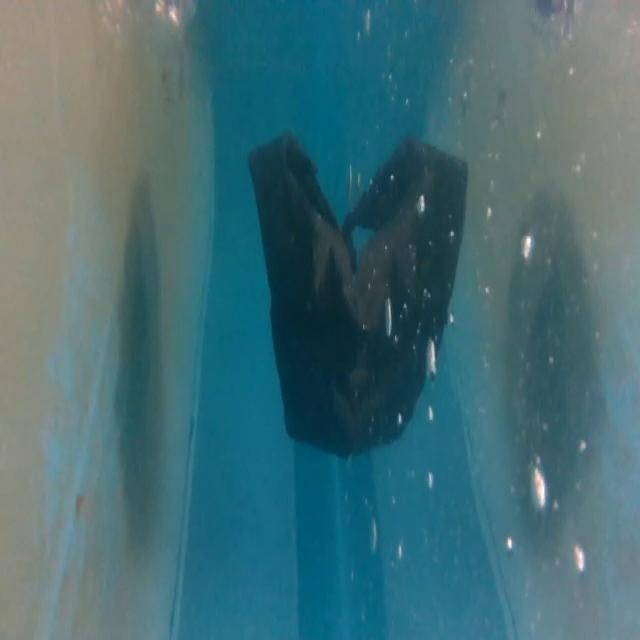plastic bags: (243, 118, 472, 459)
